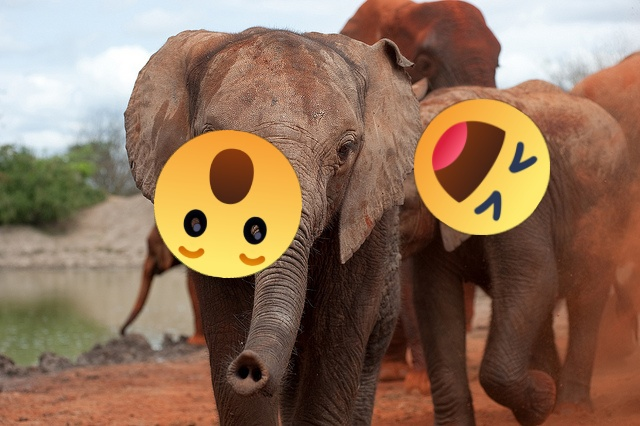haha: (414, 99, 550, 235)
wow: (154, 130, 302, 278)
